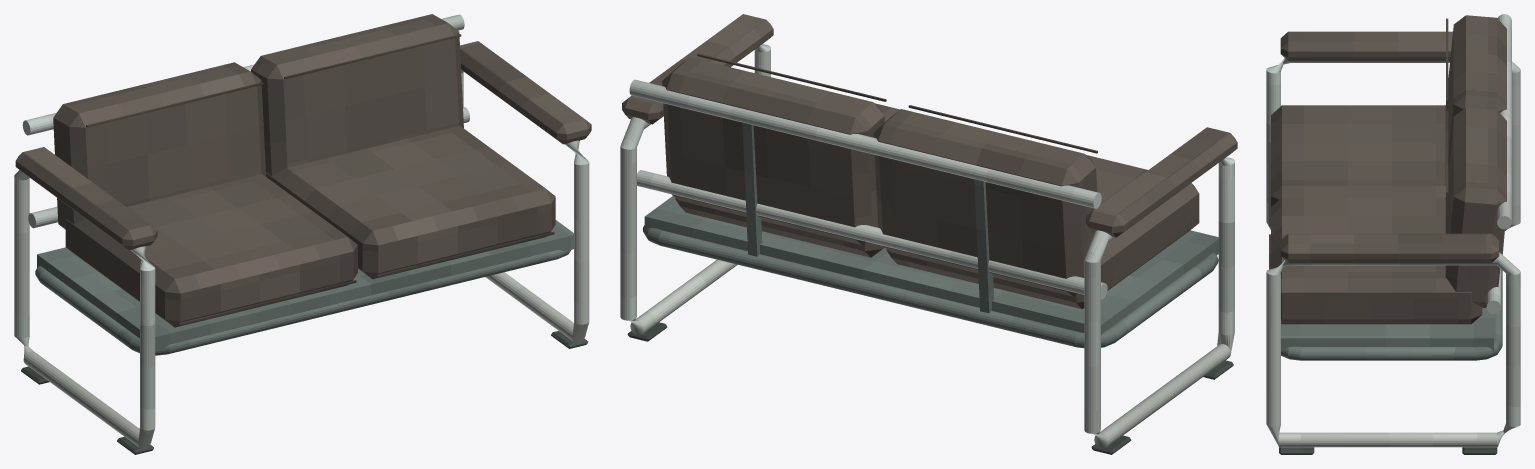
The model's file is sofa-two.glb.
3 views of the same model, side by side, from view 1: azimuth 30°, elevation 25°; view 2: azimuth 150°, elevation 25°; view 3: azimuth 270°, elevation 25° (orthographic). The views are drawn at different scales.
Parts seen in each view (by area): view 1: sofa-two/seat-cushion-1, sofa-two/seat-cushion-0, sofa-two/back-cushion-1, sofa-two/back-cushion-0, sofa-two/seat-deck, sofa-two/side-frame--1, sofa-two/seat-support, sofa-two/arm-pad--1, sofa-two/arm-pad-1, sofa-two/side-frame-1, sofa-two/back-support-upper, sofa-two/detail-welt-seat-cushion-0 (+4 smaller); view 2: sofa-two/back-cushion-0, sofa-two/back-cushion-1, sofa-two/seat-deck, sofa-two/side-frame--1, sofa-two/seat-support, sofa-two/seat-cushion-0, sofa-two/back-support-upper, sofa-two/side-frame-1, sofa-two/arm-pad--1, sofa-two/back-support-lower, sofa-two/arm-pad-1, sofa-two/seat-cushion-1 (+4 smaller); view 3: sofa-two/seat-cushion-1, sofa-two/seat-cushion-0, sofa-two/side-frame-1, sofa-two/back-cushion-1, sofa-two/arm-pad-1, sofa-two/back-cushion-0, sofa-two/seat-deck, sofa-two/arm-pad--1, sofa-two/seat-support, sofa-two/side-frame--1, sofa-two/back-support-upper, sofa-two/back-support-lower (+2 smaller).
Part boxes in pixels (left/top/right/bottom): sofa-two/seat-cushion-1: left=266, top=125, right=555, bottom=279; sofa-two/seat-cushion-0: left=65, top=174, right=357, bottom=327; sofa-two/back-cushion-1: left=251, top=14, right=463, bottom=175; sofa-two/back-cushion-0: left=53, top=62, right=265, bottom=229; sofa-two/seat-deck: left=37, top=220, right=574, bottom=350; sofa-two/side-frame--1: left=14, top=170, right=155, bottom=448; sofa-two/seat-support: left=35, top=249, right=571, bottom=355; sofa-two/arm-pad--1: left=15, top=147, right=157, bottom=250; sofa-two/arm-pad-1: left=460, top=41, right=591, bottom=144; sofa-two/side-frame-1: left=461, top=70, right=589, bottom=343; sofa-two/back-support-upper: left=22, top=14, right=464, bottom=135; sofa-two/detail-welt-seat-cushion-0: left=178, top=280, right=356, bottom=325; sofa-two/back-cushion-0: left=873, top=109, right=1097, bottom=296; sofa-two/back-cushion-1: left=662, top=57, right=884, bottom=245; sofa-two/seat-deck: left=644, top=196, right=1218, bottom=335; sofa-two/side-frame--1: left=1084, top=157, right=1234, bottom=448; sofa-two/seat-support: left=642, top=225, right=1218, bottom=348; sofa-two/seat-cushion-0: left=886, top=155, right=1199, bottom=309; sofa-two/back-support-upper: left=629, top=79, right=1101, bottom=208; sofa-two/side-frame-1: left=620, top=44, right=770, bottom=335; sofa-two/arm-pad--1: left=1086, top=127, right=1237, bottom=237; sofa-two/back-support-lower: left=637, top=170, right=1107, bottom=299; sofa-two/arm-pad-1: left=622, top=14, right=773, bottom=124; sofa-two/seat-cushion-1: left=675, top=103, right=899, bottom=257; sofa-two/seat-cushion-1: left=1271, top=197, right=1482, bottom=324; sofa-two/seat-cushion-0: left=1271, top=105, right=1445, bottom=206; sofa-two/side-frame-1: left=1266, top=252, right=1520, bottom=447; sofa-two/back-cushion-1: left=1445, top=107, right=1506, bottom=307; sofa-two/arm-pad-1: left=1280, top=233, right=1499, bottom=262; sofa-two/back-cushion-0: left=1445, top=15, right=1506, bottom=185; sofa-two/seat-deck: left=1281, top=307, right=1493, bottom=351; sofa-two/arm-pad--1: left=1280, top=31, right=1452, bottom=60; sofa-two/seat-support: left=1281, top=270, right=1502, bottom=360; sofa-two/side-frame--1: left=1266, top=58, right=1520, bottom=230; sofa-two/back-support-upper: left=1497, top=14, right=1511, bottom=229; sofa-two/back-support-lower: left=1486, top=268, right=1501, bottom=313.
Size of the model in its own units: 1.47 by 0.7792 by 0.7219.
4 materials, 4 textured.
